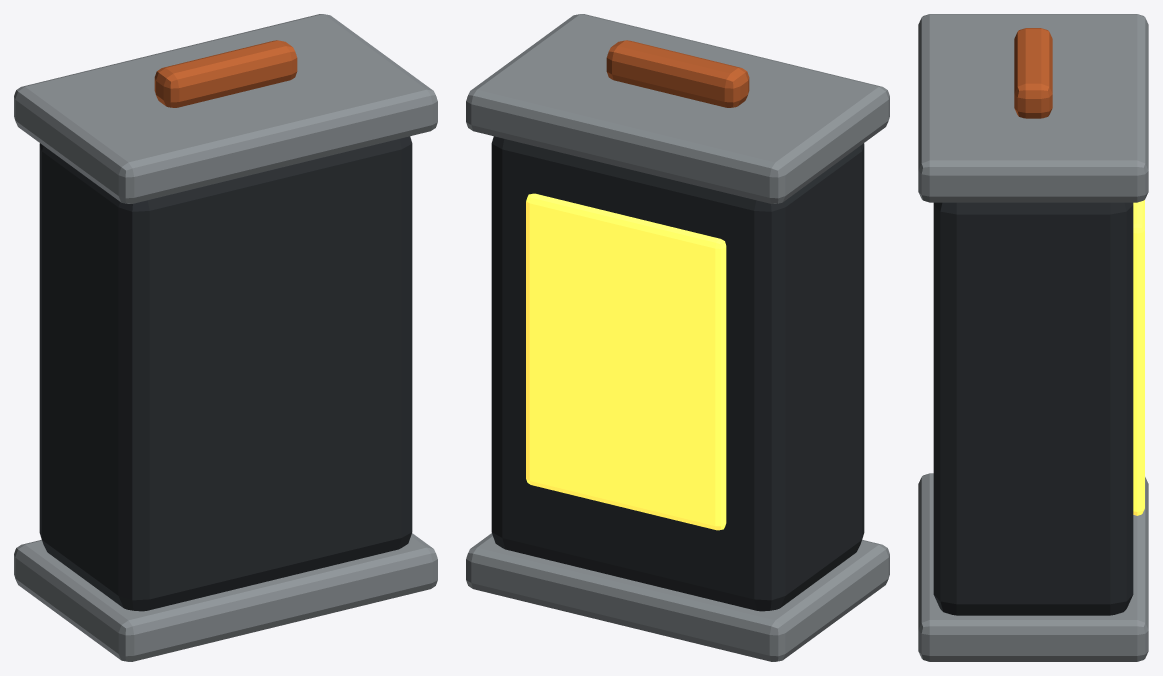
File: aux_cell.glb
The picture shows the model from 3 angles, left to right: view 1: azimuth 30°, elevation 25°; view 2: azimuth 150°, elevation 25°; view 3: azimuth 270°, elevation 25°; orthographic projection.
Parts seen in each view (by area): view 1: casing, cap3, cap-3, handle; view 2: casing, window, cap3, cap-3, handle; view 3: casing, cap3, cap-3, window, handle.
Boxes of the visible parts, left/top/right/bottom form: casing: left=39, top=136, right=412, bottom=611; cap3: left=14, top=14, right=437, bottom=203; cap-3: left=14, top=533, right=437, bottom=661; handle: left=154, top=40, right=297, bottom=107; casing: left=491, top=136, right=864, bottom=611; window: left=526, top=193, right=726, bottom=530; cap3: left=466, top=14, right=889, bottom=203; cap-3: left=466, top=533, right=889, bottom=661; handle: left=606, top=40, right=749, bottom=107; casing: left=933, top=202, right=1133, bottom=615; cap3: left=918, top=14, right=1148, bottom=202; cap-3: left=918, top=473, right=1148, bottom=661; window: left=1133, top=200, right=1144, bottom=515; handle: left=1014, top=28, right=1052, bottom=118.
Bounding box in the file's own units: 0.48 × 0.765 × 0.3.
